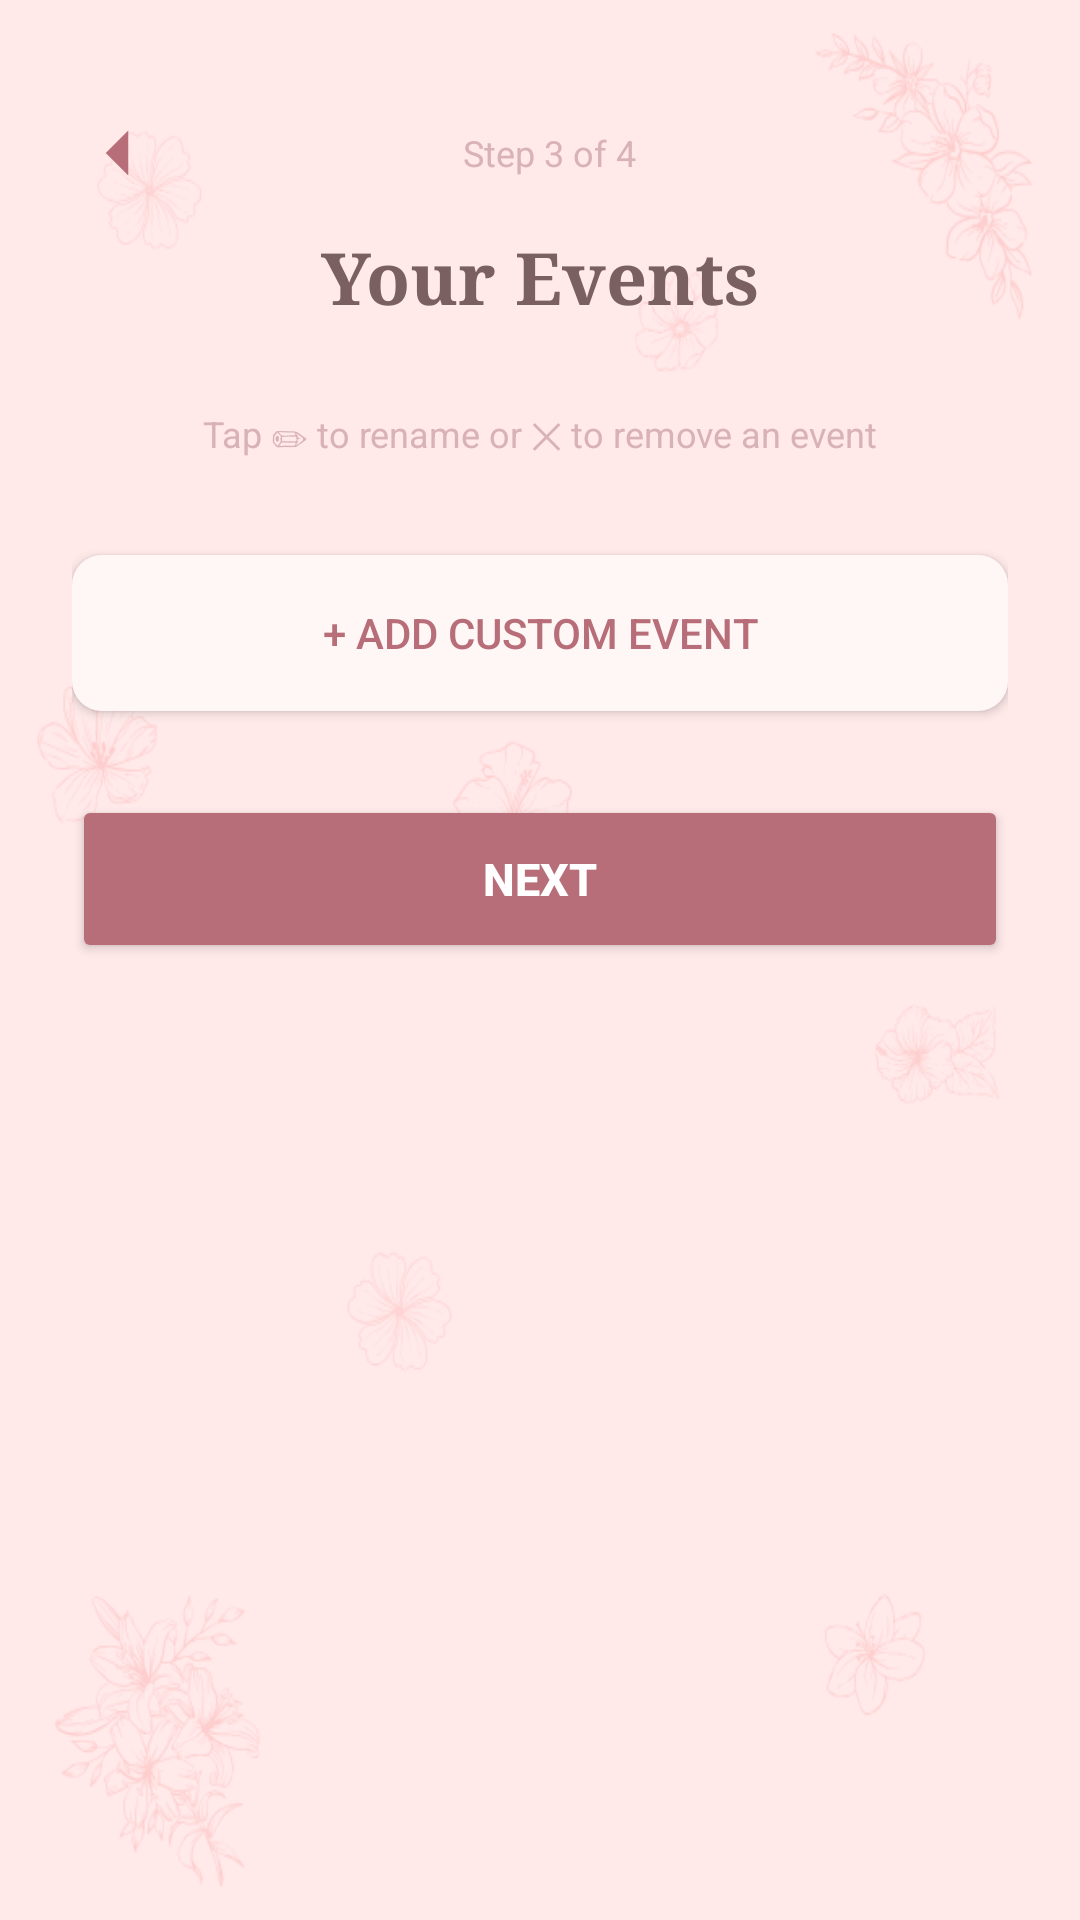

Screen size 1080x1920. Icon name, then its center in pixels as point (x, y):
Back: point (117, 153)
